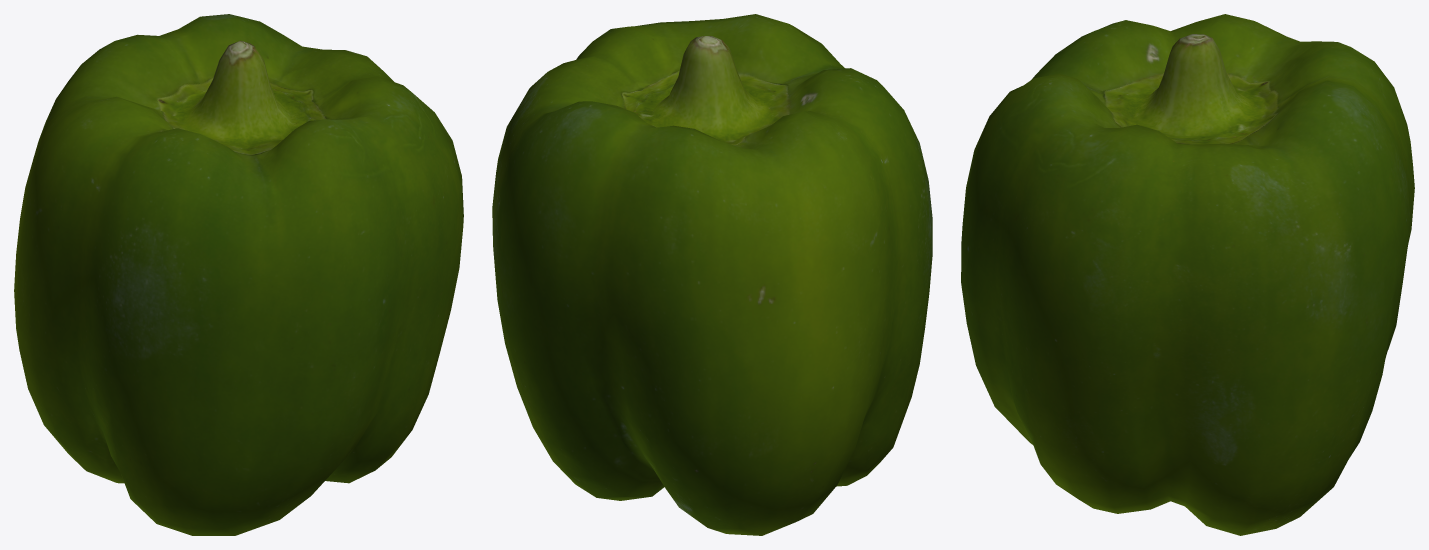
The model's file is Green papper.fbx.
3 renders of one model, left to right at view 1: azimuth 30°, elevation 25°; view 2: azimuth 150°, elevation 25°; view 3: azimuth 270°, elevation 25°, orthographic. The views are drawn at different scales.
Visible parts, largest first — view 1: GreenPapper; view 2: GreenPapper; view 3: GreenPapper.
Boxes of the visible parts, left/top/right/bottom form: GreenPapper: left=14, top=14, right=463, bottom=535; GreenPapper: left=492, top=14, right=932, bottom=535; GreenPapper: left=961, top=14, right=1414, bottom=535.
Size of the model in its own units: 7.32 by 8.39 by 7.45.
